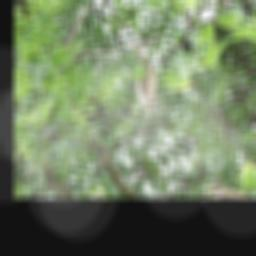Cuckoo: (94, 31, 180, 117)
